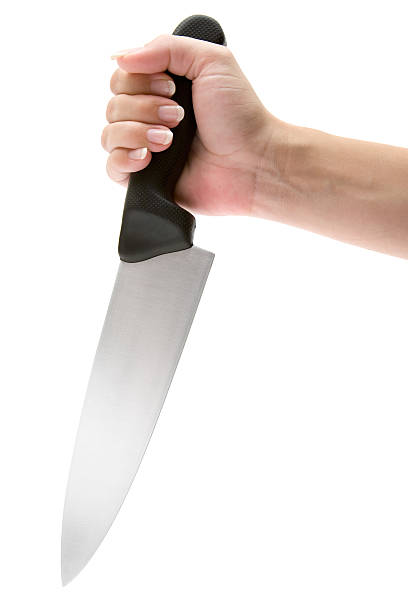knife: (60, 15, 228, 587)
